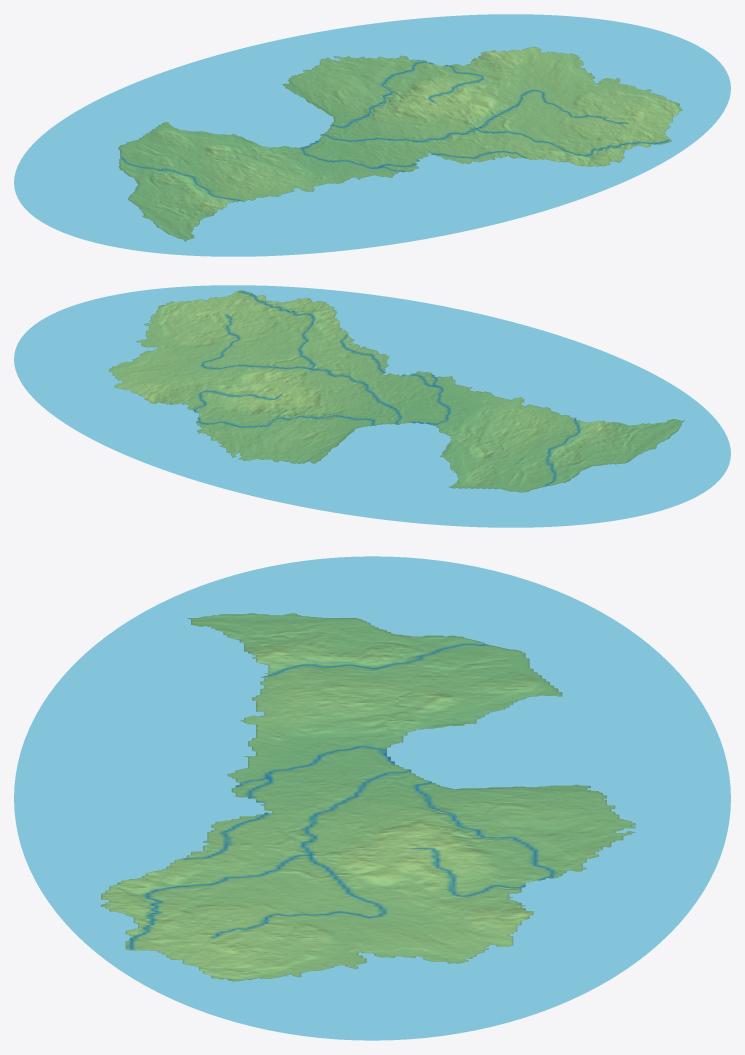
File: LVA-terrain.glb
3 views of the same model, one above another, from view 1: azimuth 30°, elevation 25°; view 2: azimuth 150°, elevation 25°; view 3: azimuth 270°, elevation 25° (orthographic). The views are drawn at different scales.
Parts seen in each view (by area): view 1: Relevo com hidrografia; view 2: Relevo com hidrografia; view 3: Relevo com hidrografia.
Part boxes in pixels (bbox=[...]): Relevo com hidrografia: bbox=[14, 14, 730, 256]; Relevo com hidrografia: bbox=[14, 285, 730, 527]; Relevo com hidrografia: bbox=[14, 556, 730, 1040].
Size of the model in its own units: 2.1 by 0.012 by 1.31.
Materials: 2 (1 with a texture image).
